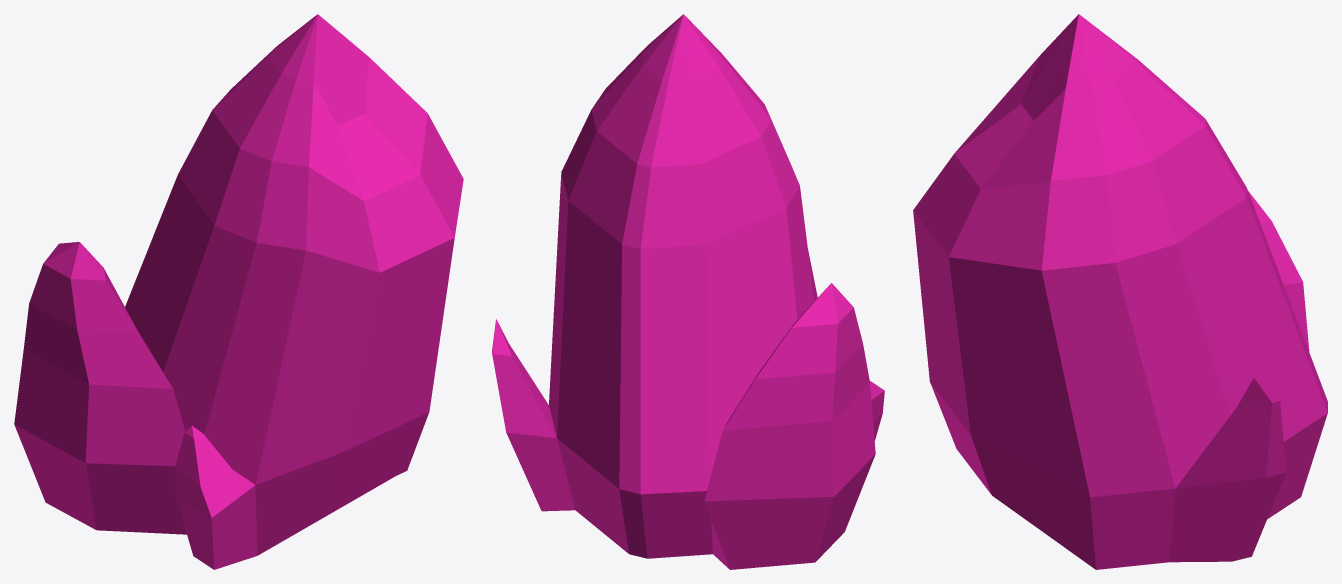
File: Crystal.fbx
3 renders of one model, left to right at view 1: azimuth 30°, elevation 25°; view 2: azimuth 150°, elevation 25°; view 3: azimuth 270°, elevation 25°, orthographic. The views are drawn at different scales.
Visible parts, largest first — view 1: Crystal; view 2: Crystal; view 3: Crystal.
Boxes of the visible parts, x1,y1,x2,y2 form: Crystal: (14, 14, 463, 569); Crystal: (492, 14, 884, 569); Crystal: (913, 14, 1327, 569).
Size of the model in its own units: 102 by 132 by 97.7.
